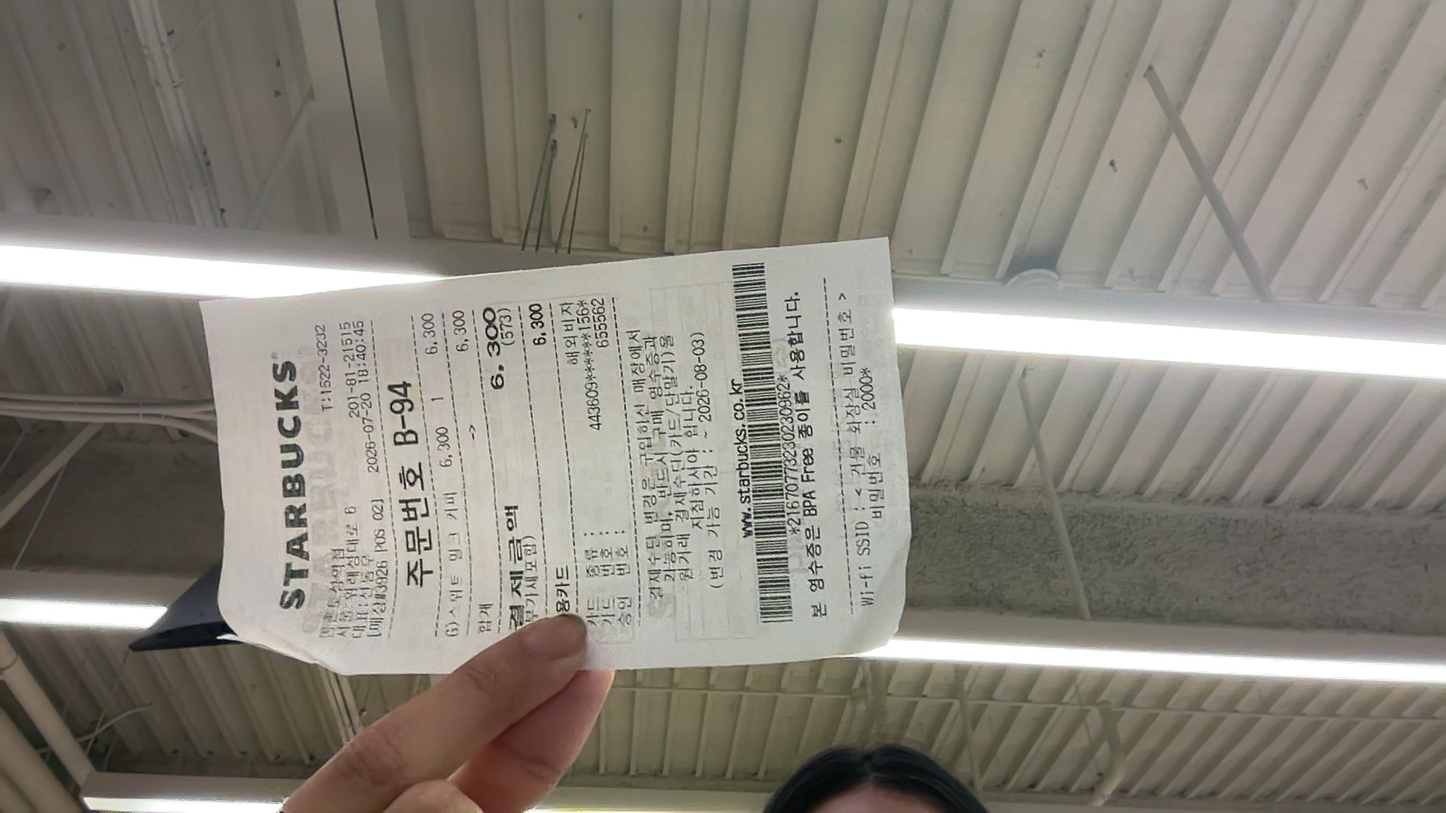Paper: (7, 412, 219, 603)
